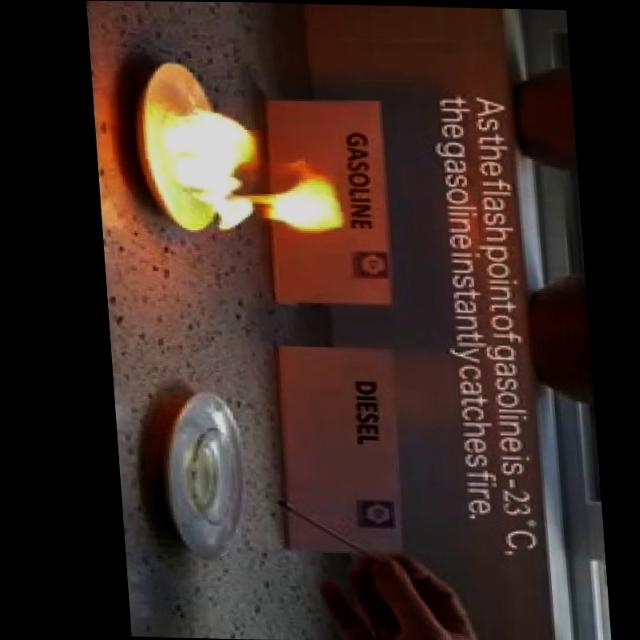helmet: (157, 103, 352, 238)
